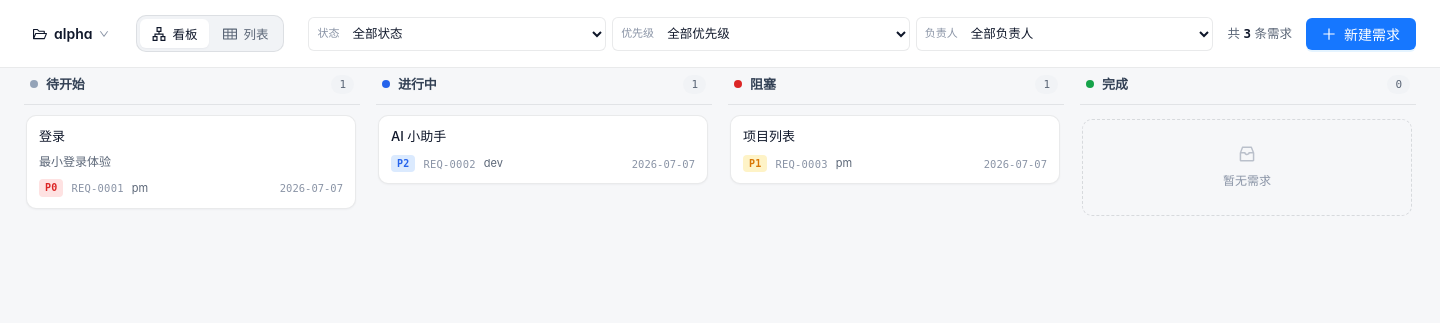
RequirementGrid › 列表视图只展示 MVP 需求字段
Step 1. Click the tab "列表" → (246, 34), box [212,19,280,48]
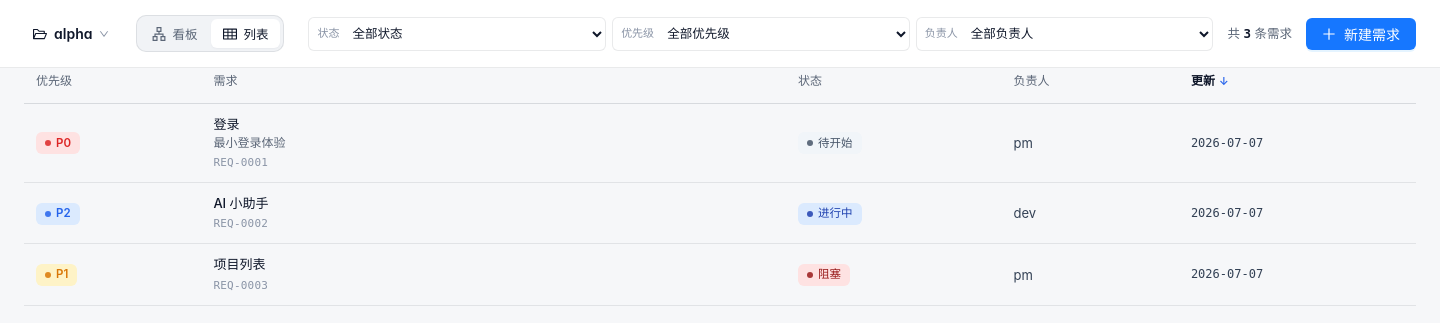
Now the column heading "优先级" is shown, box [24,68,201,103]
Now the column heading "状态" is shown, box [786,68,1002,103]
Now the column heading "负责人" is shown, box [1002,68,1179,103]
